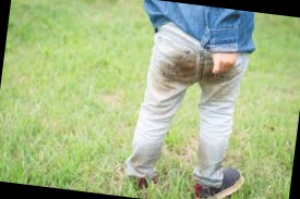earth: (163, 56, 211, 84)
